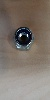Nut: (9, 24, 38, 54)
